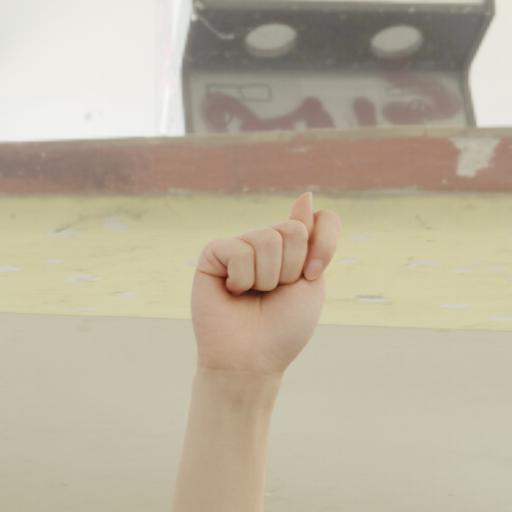T: (166, 186, 364, 417)
